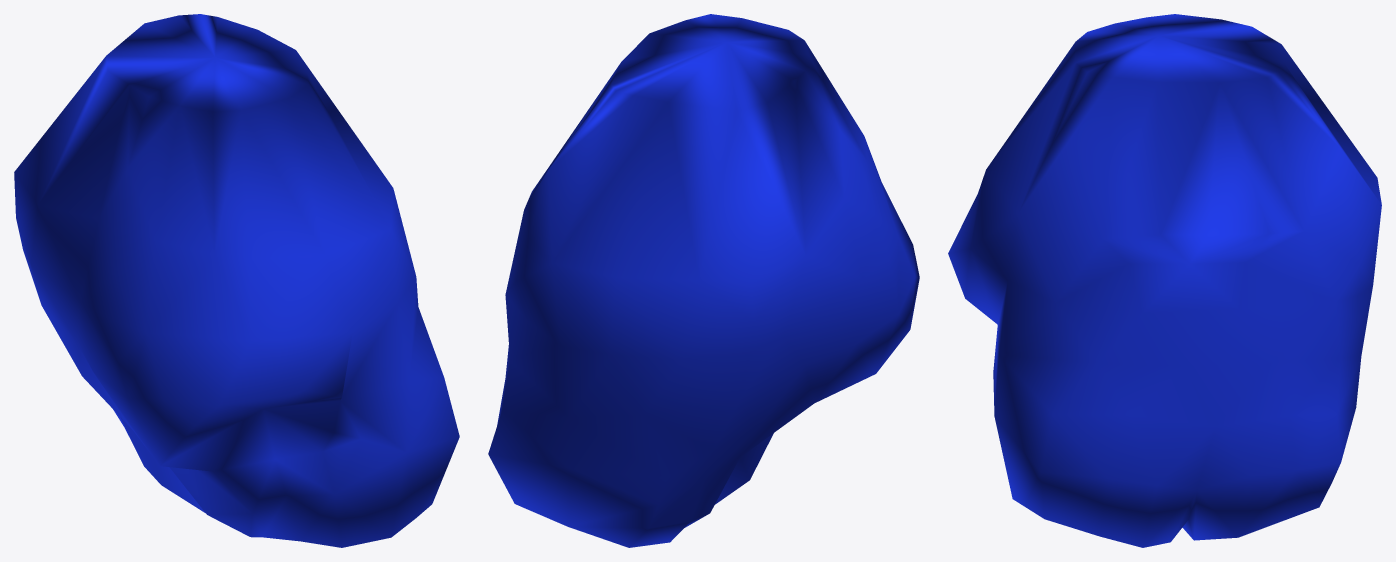
File: Turtleneck lefthand.fbx
The picture shows the model from 3 angles, left to right: view 1: azimuth 30°, elevation 25°; view 2: azimuth 150°, elevation 25°; view 3: azimuth 270°, elevation 25°; orthographic projection. The views are drawn at different scales.
Visible parts, largest first — view 1: FixedGloves.001; view 2: FixedGloves.001; view 3: FixedGloves.001.
Boxes of the visible parts, left/top/right/bottom form: FixedGloves.001: left=14, top=14, right=459, bottom=547; FixedGloves.001: left=488, top=14, right=919, bottom=547; FixedGloves.001: left=948, top=14, right=1381, bottom=547.
Bounding box in the file's own units: 9.72 × 13.91 × 12.02.
